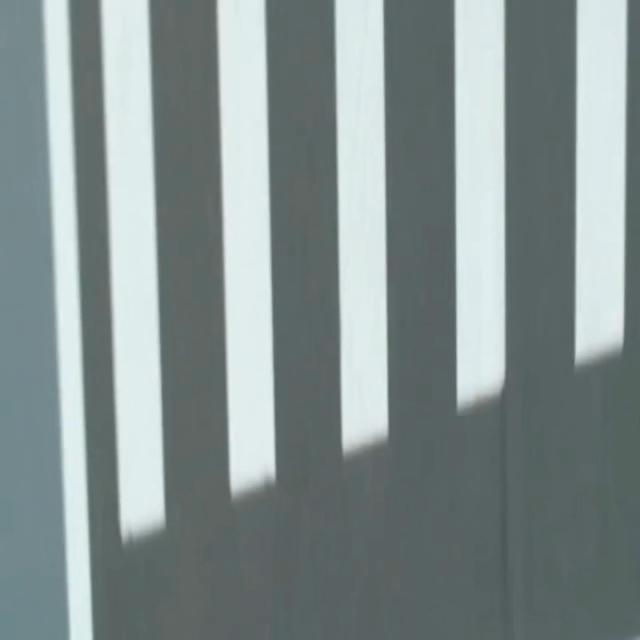left: (43, 0, 92, 639)
